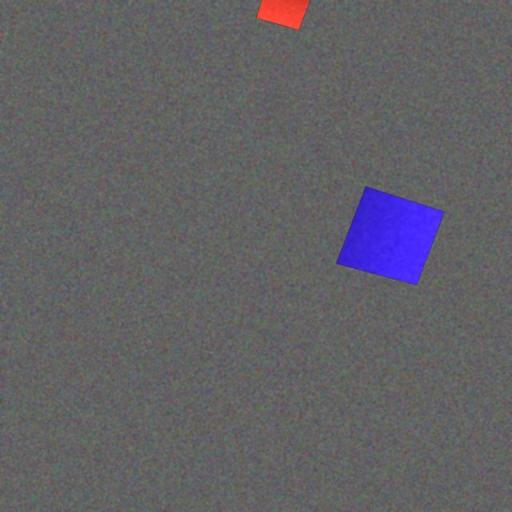BLUE_SQUARE: (335, 186, 446, 286)
RED_SQUARE: (256, 0, 313, 30)
